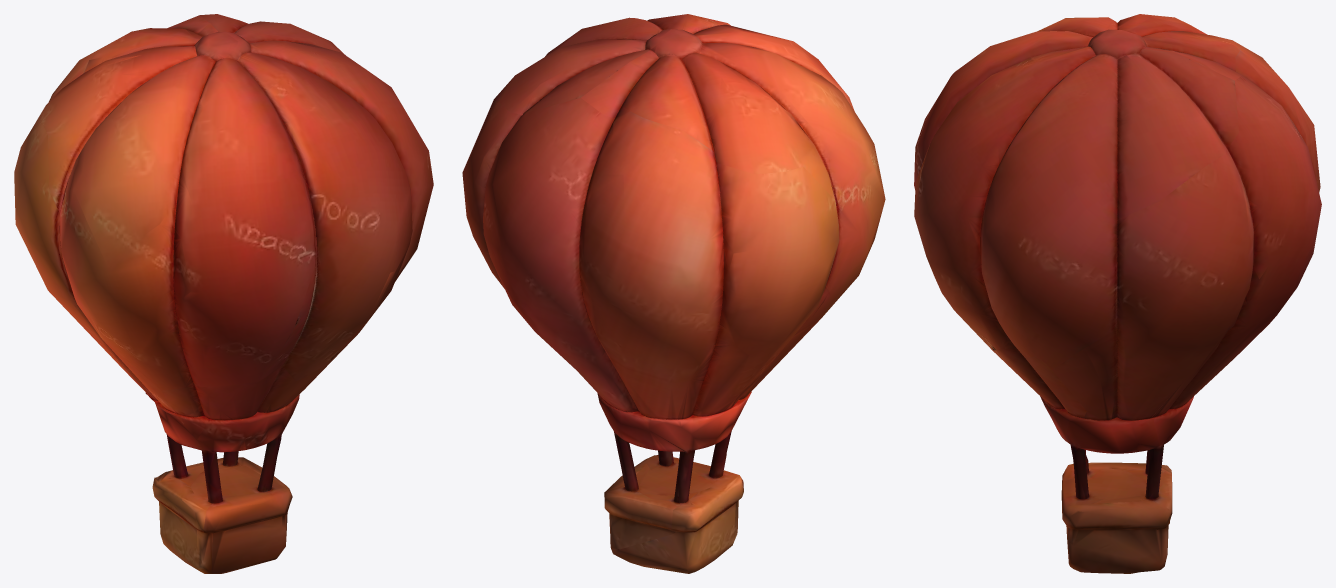
Rendered from balloon_pbr.glb.
3 renders of one model, left to right at view 1: azimuth 30°, elevation 25°; view 2: azimuth 150°, elevation 25°; view 3: azimuth 270°, elevation 25°, orthographic.
Visible parts, largest first — view 1: model.003; view 2: model.003; view 3: model.003.
Part boxes in pixels (box(x1,y1,x2,y2)): model.003: box(14, 14, 433, 573); model.003: box(462, 14, 885, 573); model.003: box(914, 14, 1321, 573).
Size of the model in its own units: 1.19 by 1.72 by 1.2.
1 material, 1 textured.
